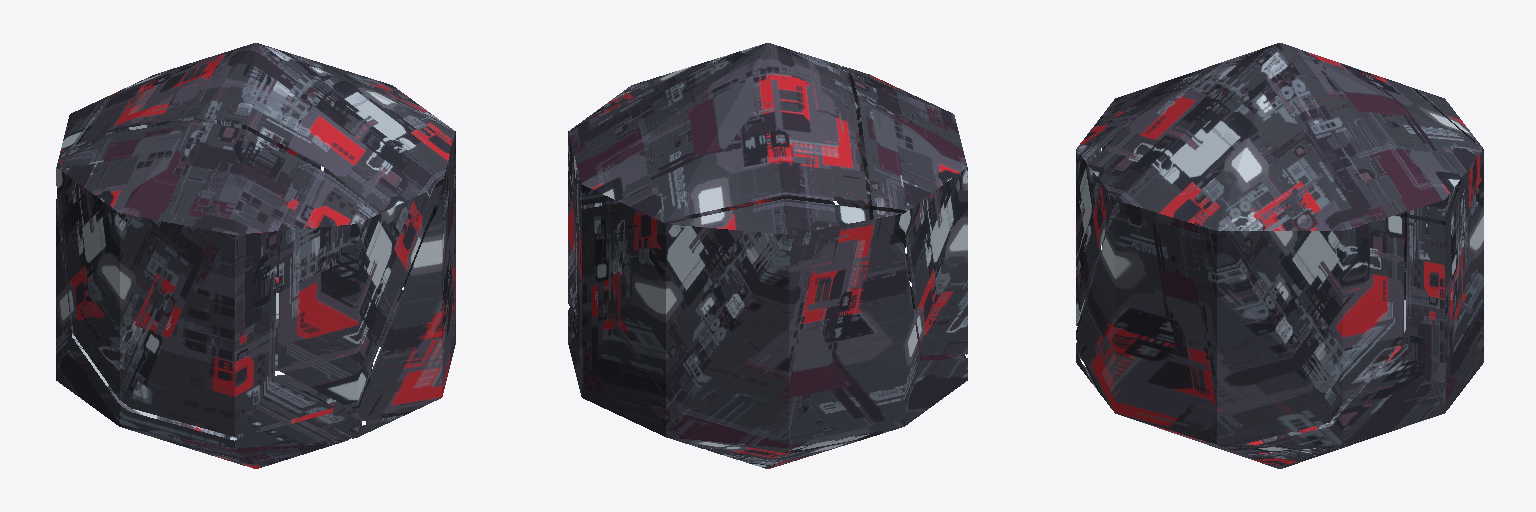
3 renders of one model, left to right at view 1: azimuth 30°, elevation 25°; view 2: azimuth 150°, elevation 25°; view 3: azimuth 270°, elevation 25°, orthographic.
Parts seen in each view (by area): view 1: 球; view 2: 球; view 3: 球.
Part boxes in pixels (x1,y1,x2,y2): 球: (56, 43, 455, 468); 球: (568, 43, 967, 468); 球: (1076, 43, 1483, 468).
Size of the model in its own units: 3.66 by 4.45 by 3.85.
1 materials, 1 textured.